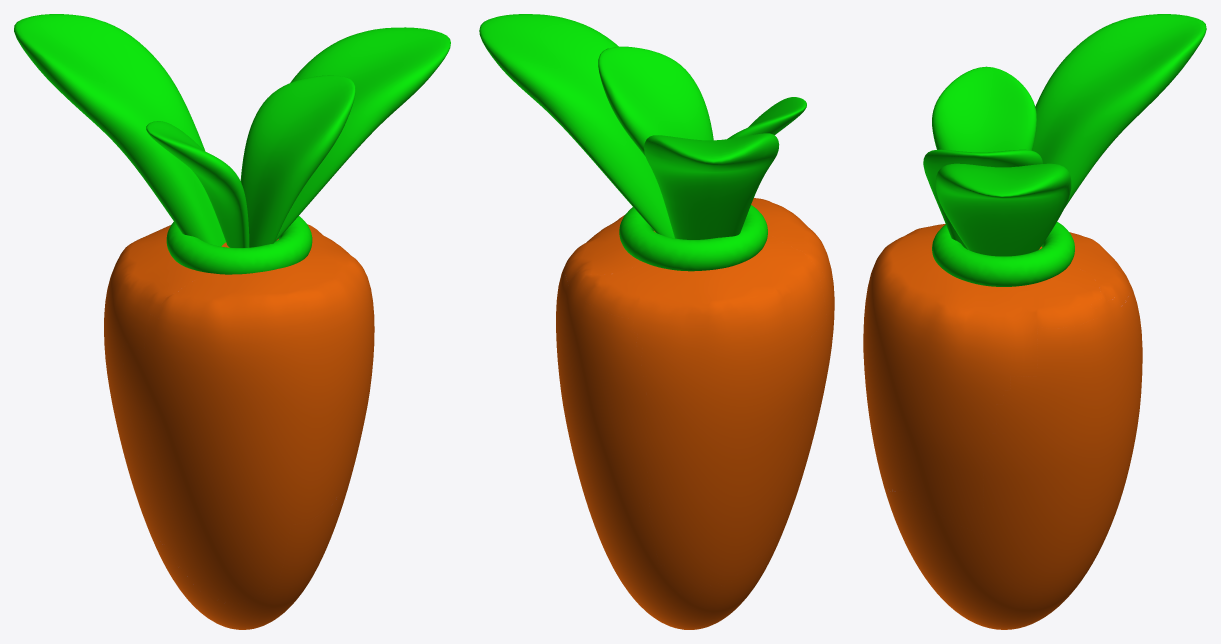
File: carrot-2.fbx
3 views of the same model, side by side, from view 1: azimuth 30°, elevation 25°; view 2: azimuth 150°, elevation 25°; view 3: azimuth 270°, elevation 25° (orthographic). The views are drawn at different scales.
Parts seen in each view (by area): view 1: Sphere_Sphere, Leaf_Material_001_Material_001; view 2: Sphere_Sphere, Leaf_Material_001_Material_001; view 3: Sphere_Sphere, Leaf_Material_001_Material_001.
Boxes of the visible parts, box(x1,y1,x2,y2) form: Sphere_Sphere: box(104, 224, 374, 629); Leaf_Material_001_Material_001: box(14, 14, 450, 274); Sphere_Sphere: box(556, 198, 834, 629); Leaf_Material_001_Material_001: box(479, 14, 806, 271); Sphere_Sphere: box(863, 224, 1142, 629); Leaf_Material_001_Material_001: box(923, 14, 1206, 286).
Bounding box in the file's own units: 0.9942 × 1.55 × 0.8773.
Materials: 2 (2 with a texture image).
